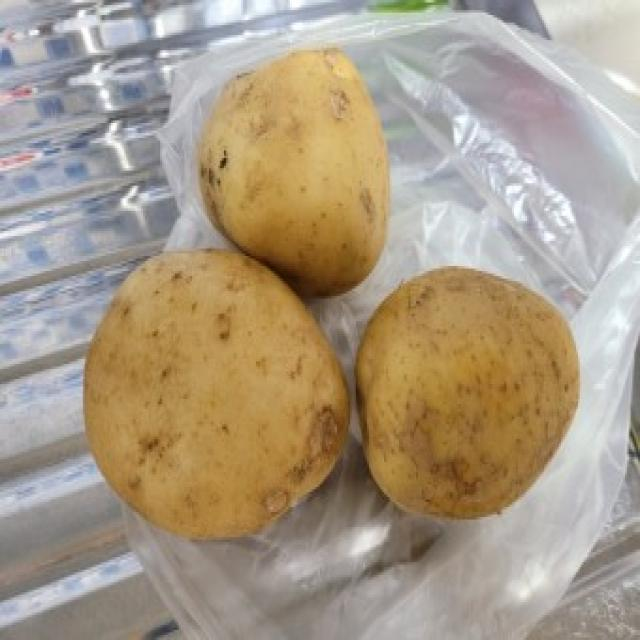potato: (80, 243, 350, 540), (353, 259, 585, 527), (196, 45, 389, 291)
